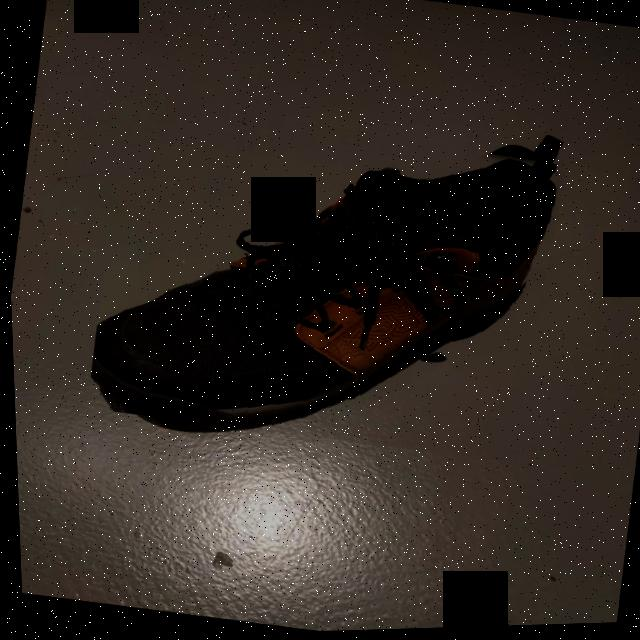shoe: (75, 83, 576, 478)
